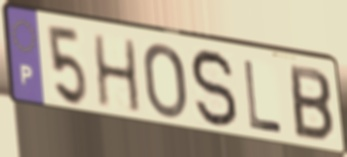5: (43, 24, 92, 110)
B: (287, 62, 336, 146)
H: (91, 32, 144, 117)
L: (242, 58, 285, 137)
O: (141, 41, 189, 121)
S: (188, 46, 240, 131)
